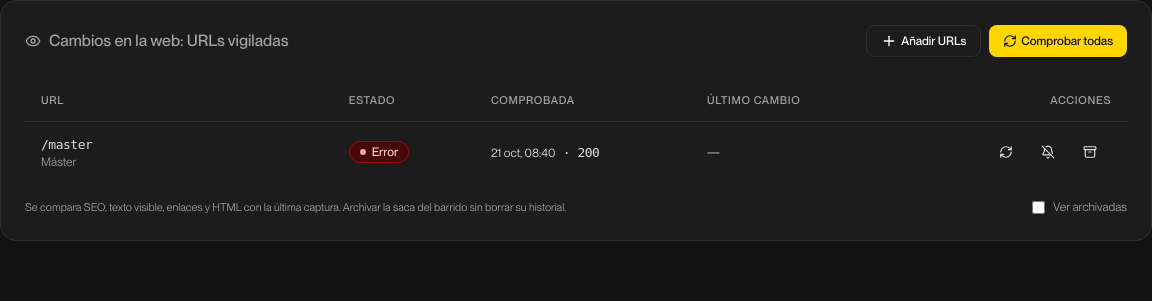
Scenario: check all asks the job and shows the progress
Check: the text "/master" is shown, box 41,136 -> 92,152
Click the button "Comprobar todas" at x=1058, y=41, box 989,25 -> 1127,57
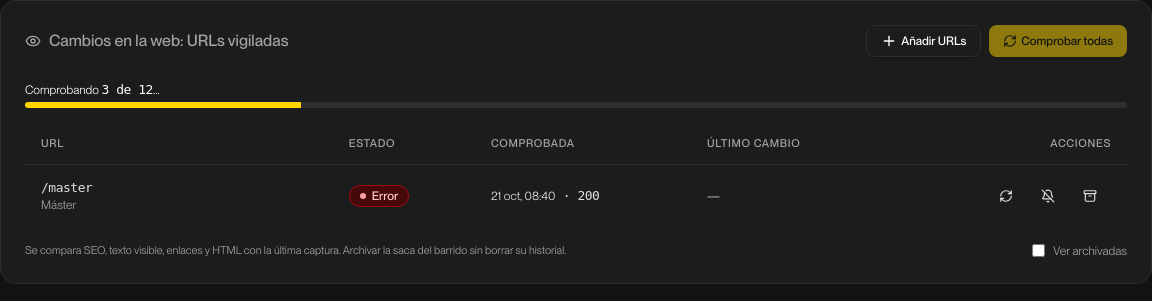
Check: the text "Comprobando 3 de 12…" is shown, box 25,82 -> 160,97
